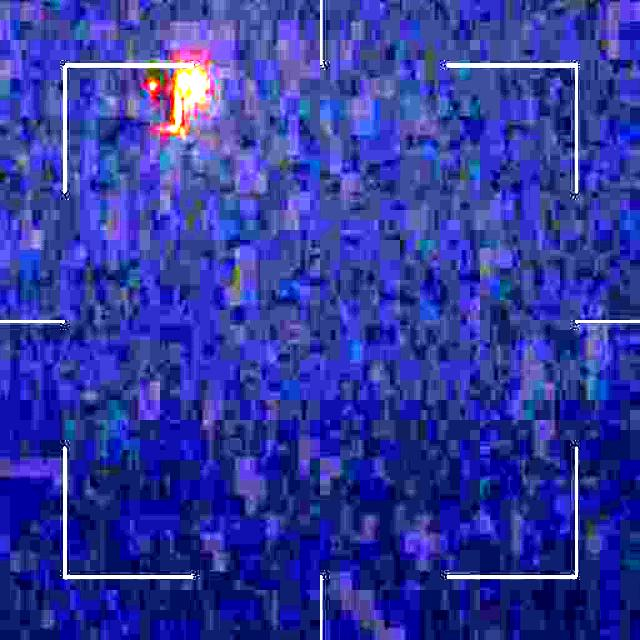bird: (139, 62, 206, 149)
